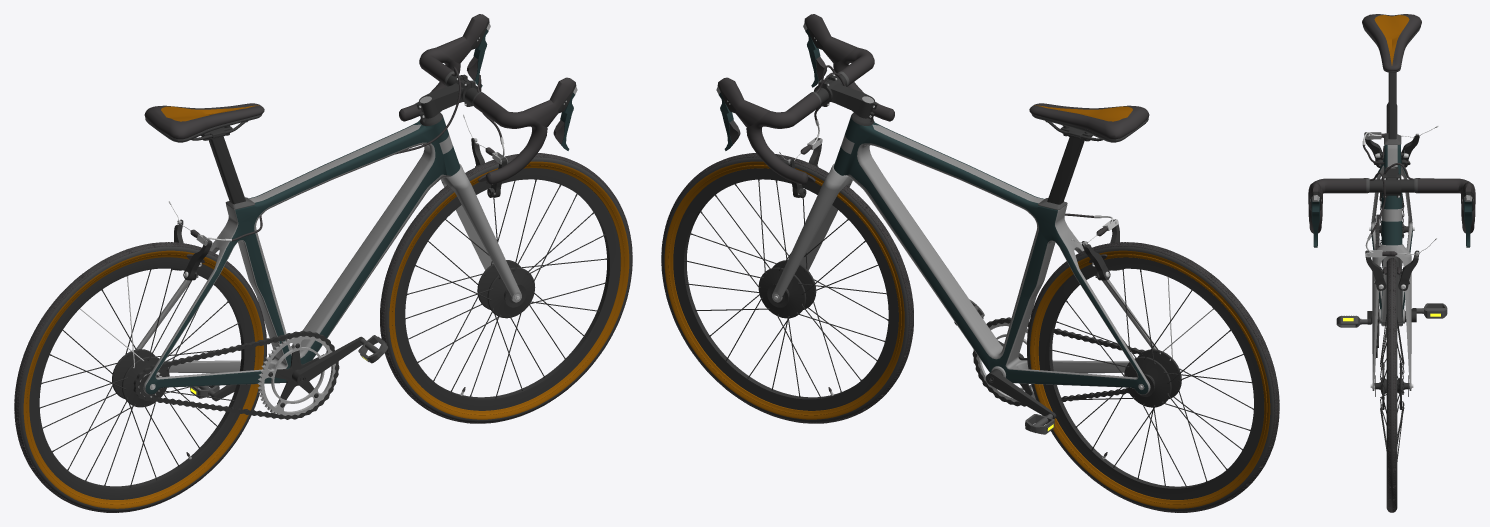
Rendered from road_bike.fbx.
3 views of the same model, side by side, from view 1: azimuth 30°, elevation 25°; view 2: azimuth 150°, elevation 25°; view 3: azimuth 270°, elevation 25° (orthographic). The views are drawn at different scales.
Visible parts, largest first — view 1: 1, wheel left, wheel left.001, Circle.012, Circle.004, protector, Plane.001, protector.002, Plane.022, Circle.002, Circle.013, Plane.006 (+5 smaller); view 2: 1, wheel left, wheel left.001, Circle.012, Circle.004, protector, protector.002, Plane.001, Circle.020, Circle.002, Circle.013, Plane.008 (+4 smaller); view 3: 1, wheel left.001, Plane.001, protector.002, Circle.012, Circle.004, Circle.008, Circle.016, Plane.008, Circle.035, Circle.007, Circle.002 (+5 smaller).
Boxes of the visible parts, left/top/right/bottom form: 1: left=136, top=117, right=460, bottom=394; wheel left: left=14, top=243, right=266, bottom=511; wheel left.001: left=380, top=153, right=631, bottom=423; Circle.012: left=399, top=47, right=547, bottom=184; Circle.004: left=440, top=163, right=521, bottom=302; protector: left=14, top=242, right=266, bottom=512; Plane.001: left=144, top=103, right=264, bottom=139; protector.002: left=380, top=153, right=632, bottom=423; Plane.022: left=133, top=330, right=339, bottom=419; Circle.002: left=477, top=260, right=535, bottom=318; Circle.013: left=437, top=14, right=575, bottom=127; Plane.006: left=257, top=336, right=335, bottom=415; 1: left=833, top=117, right=1156, bottom=394; wheel left: left=1027, top=243, right=1279, bottom=511; wheel left.001: left=662, top=153, right=913, bottom=423; Circle.012: left=746, top=47, right=894, bottom=184; Circle.004: left=772, top=163, right=852, bottom=302; protector: left=1027, top=242, right=1279, bottom=512; protector.002: left=661, top=153, right=913, bottom=423; Plane.001: left=1029, top=103, right=1149, bottom=139; Circle.020: left=1124, top=349, right=1181, bottom=407; Circle.002: left=758, top=260, right=816, bottom=318; Circle.013: left=718, top=14, right=856, bottom=127; Plane.008: left=1047, top=127, right=1092, bottom=204; 1: left=1371, top=134, right=1412, bottom=326; wheel left.001: left=1386, top=258, right=1397, bottom=512; Plane.001: left=1362, top=14, right=1421, bottom=71; protector.002: left=1388, top=258, right=1395, bottom=512; Circle.012: left=1308, top=178, right=1475, bottom=233; Circle.004: left=1372, top=244, right=1411, bottom=390; Circle.008: left=1365, top=250, right=1419, bottom=290; Circle.016: left=1311, top=198, right=1472, bottom=247; Plane.008: left=1388, top=72, right=1396, bottom=139; Circle.035: left=1364, top=132, right=1419, bottom=167; Circle.007: left=1382, top=166, right=1401, bottom=197; Circle.002: left=1374, top=362, right=1409, bottom=409.
Size of the model in its own units: 391 by 235 by 105.
